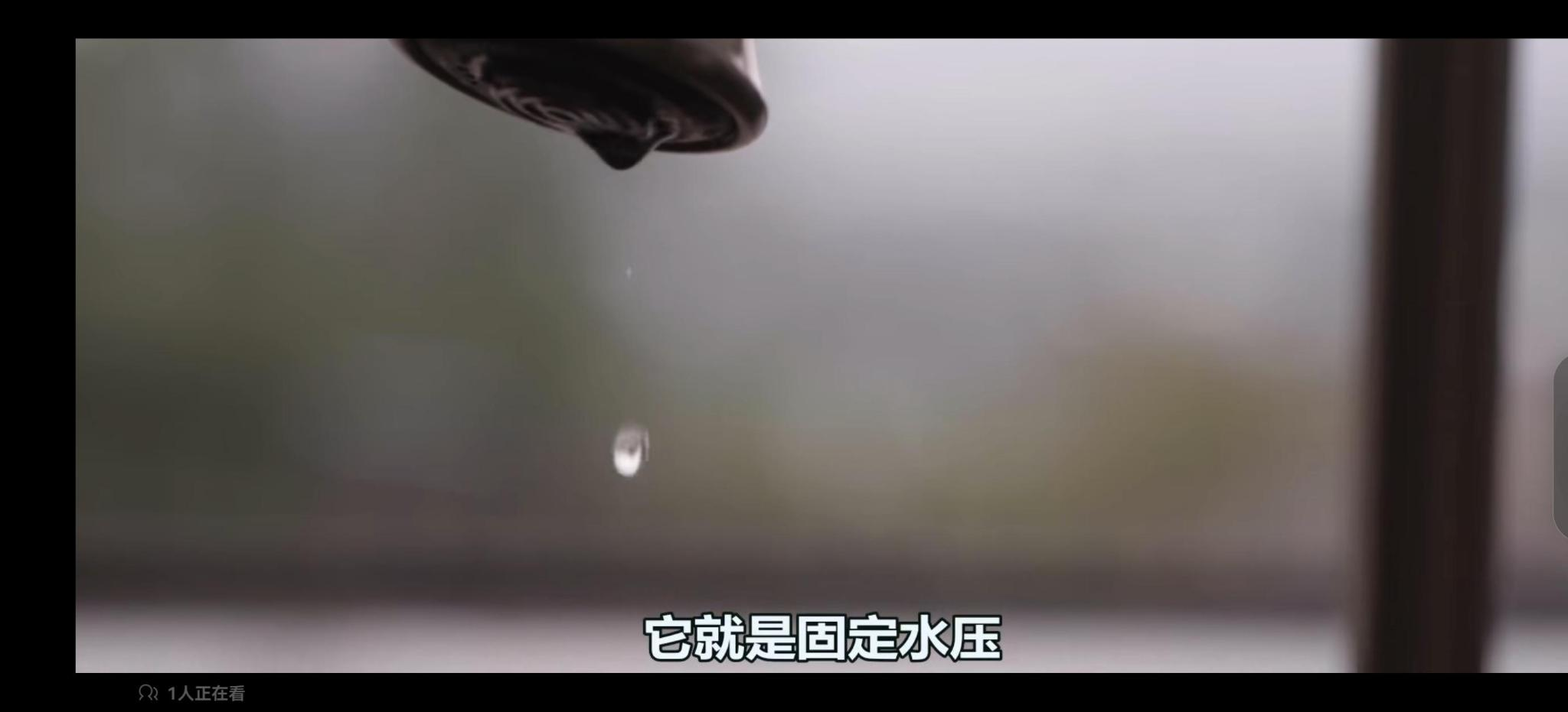water drop: (580, 115, 670, 170), (610, 416, 652, 483)
